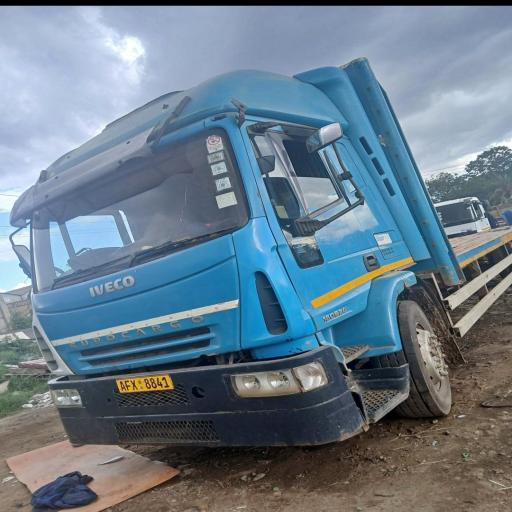number-plates: (113, 374, 178, 394)
